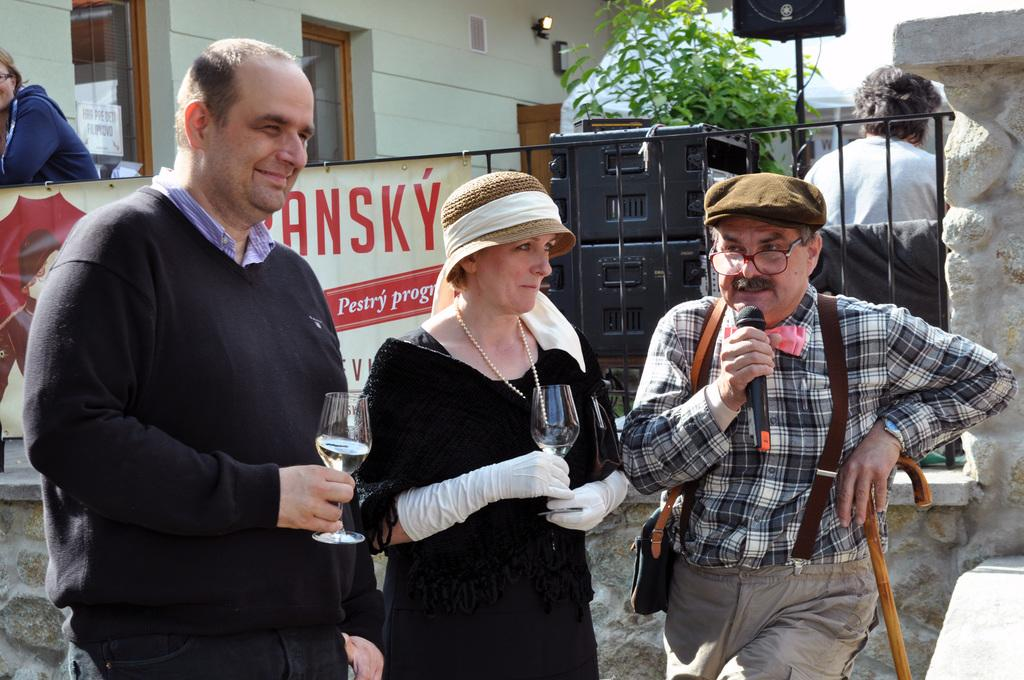Hat: (440, 168, 577, 285), (702, 174, 824, 229)
